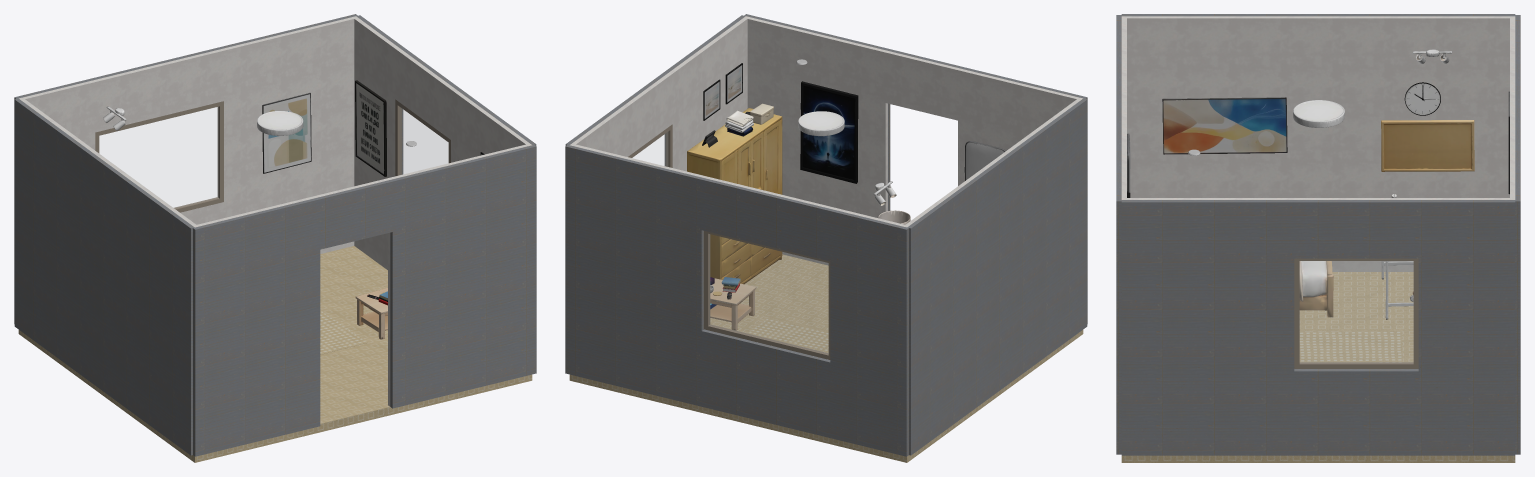
The model's file is scene_web.glb.
3 renders of one model, left to right at view 1: azimuth 30°, elevation 25°; view 2: azimuth 150°, elevation 25°; view 3: azimuth 270°, elevation 25°, orthographic. The views are drawn at different scales.
Parts seen in each view (by area): view 1: geometry_0.003, geometry_0.007, geometry_0, Mesh_0, geometry_0.004, glass, geometry_0.017, geometry_0.018, glass.001, frame, geometry_0.002, geometry_0.001 (+6 smaller); view 2: geometry_0.001, geometry_0.007, geometry_0.002, glass, geometry_0.004, Mesh_0, geometry_0.011, geometry_0.022, frame, Mesh_0.001, geometry_0.003, geometry_0.012 (+8 smaller); view 3: geometry_0.005, geometry_0.006, glass.001, Mesh_0, geometry_0.014, geometry_0.015, Mesh_0.001, geometry_0.001, geometry_0.003, frame.001, geometry_0.013, geometry_0.024 (+6 smaller).
Boxes of the visible parts, x1,y1,x2,y2 form: geometry_0.003: [193, 144, 536, 456]; geometry_0.007: [14, 98, 194, 455]; geometry_0: [23, 17, 354, 253]; Mesh_0: [18, 246, 532, 462]; geometry_0.004: [352, 16, 531, 269]; glass: [99, 107, 218, 207]; geometry_0.017: [262, 93, 311, 173]; geometry_0.018: [355, 80, 386, 176]; glass.001: [400, 107, 448, 174]; frame: [95, 101, 223, 212]; geometry_0.002: [197, 144, 528, 406]; geometry_0.001: [14, 14, 357, 323]; geometry_0.001: [565, 144, 908, 456]; geometry_0.007: [907, 98, 1087, 455]; geometry_0.002: [747, 17, 1078, 265]; glass: [709, 234, 828, 353]; geometry_0.004: [570, 16, 749, 171]; Mesh_0: [569, 254, 1083, 462]; geometry_0.011: [687, 108, 782, 284]; geometry_0.022: [800, 81, 858, 183]; frame: [704, 231, 830, 359]; Mesh_0.001: [748, 318, 828, 353]; geometry_0.003: [744, 14, 1087, 323]; geometry_0.012: [710, 278, 756, 330]; geometry_0.005: [1121, 200, 1515, 455]; geometry_0.006: [1121, 16, 1515, 271]; glass.001: [1300, 261, 1413, 362]; Mesh_0: [1121, 272, 1515, 462]; geometry_0.014: [1162, 97, 1287, 154]; geometry_0.015: [1381, 120, 1474, 171]; Mesh_0.001: [1299, 331, 1402, 362]; geometry_0.001: [1515, 15, 1520, 454]; geometry_0.003: [1116, 15, 1121, 454]; frame.001: [1294, 258, 1418, 368]; geometry_0.013: [1299, 261, 1333, 317]; geometry_0.024: [1293, 100, 1344, 127].
Size of the model in its own units: 4.3 by 2.8 by 3.9.
51 materials, 47 textured.
